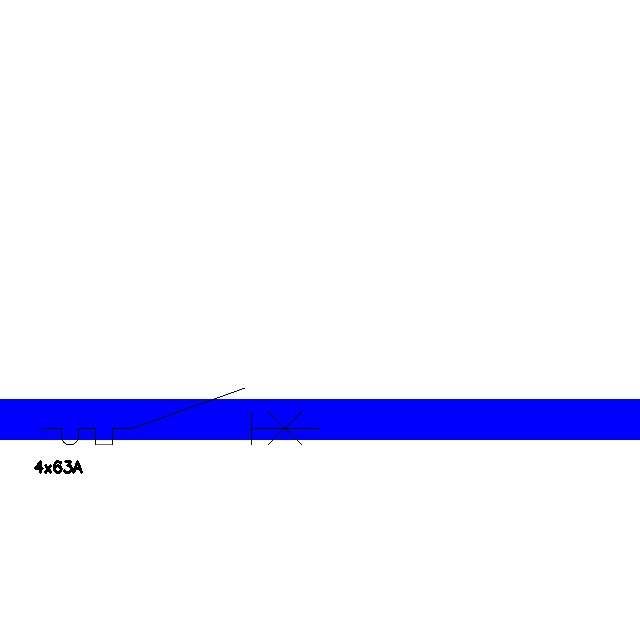interruptor_termomagnetico: (33, 381, 326, 452)
